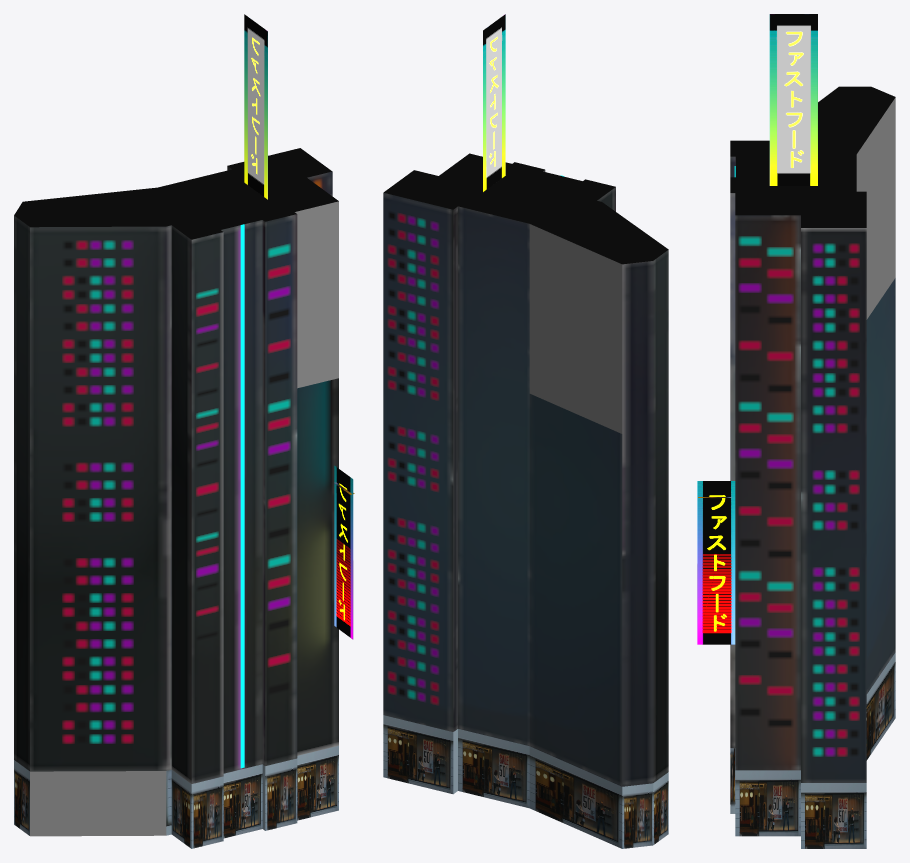
Rendered from BLD1310018.fbx.
3 views of the same model, side by side, from view 1: azimuth 30°, elevation 25°; view 2: azimuth 150°, elevation 25°; view 3: azimuth 270°, elevation 25° (orthographic). The views are drawn at different scales.
Parts seen in each view (by area): view 1: smBLD1310018; view 2: smBLD1310018; view 3: smBLD1310018.
Part boxes in pixels (x1=…): smBLD1310018: x1=14, y1=14, x2=354, y2=848; smBLD1310018: x1=383, y1=14, x2=668, y2=848; smBLD1310018: x1=697, y1=14, x2=895, y2=848.
Bounding box in the file's own units: 1454 × 3817 × 864.
Materials: 4 (2 with a texture image).
